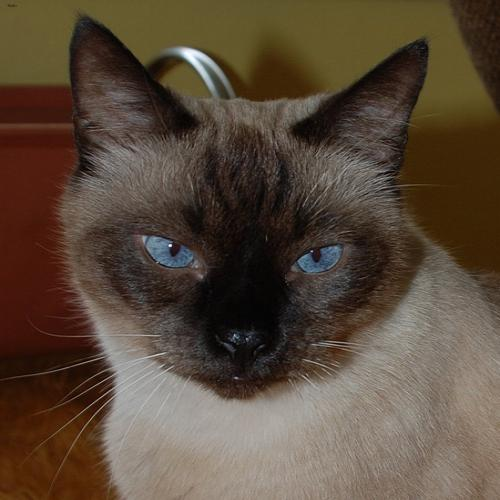siamese: (47, 8, 455, 410)
